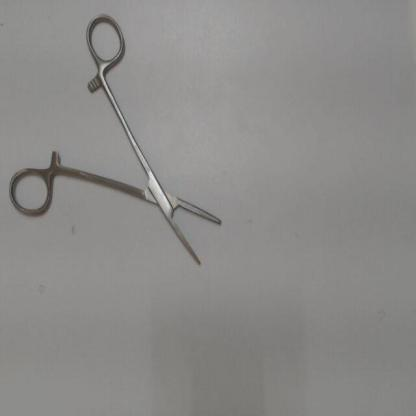Mayo Needle Holder: (1, 4, 248, 289)
